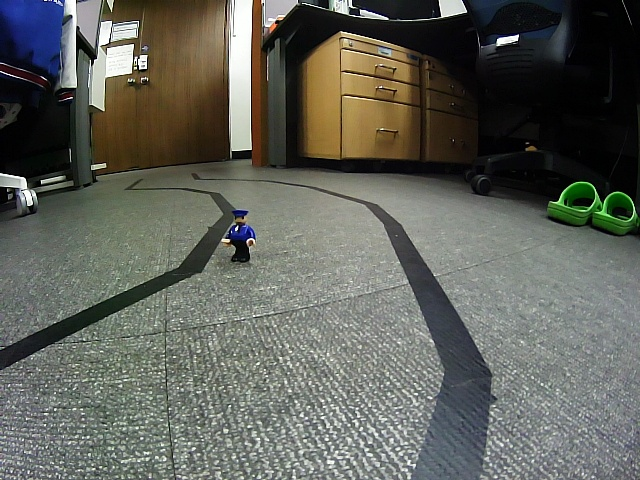person: (221, 210, 257, 263)
